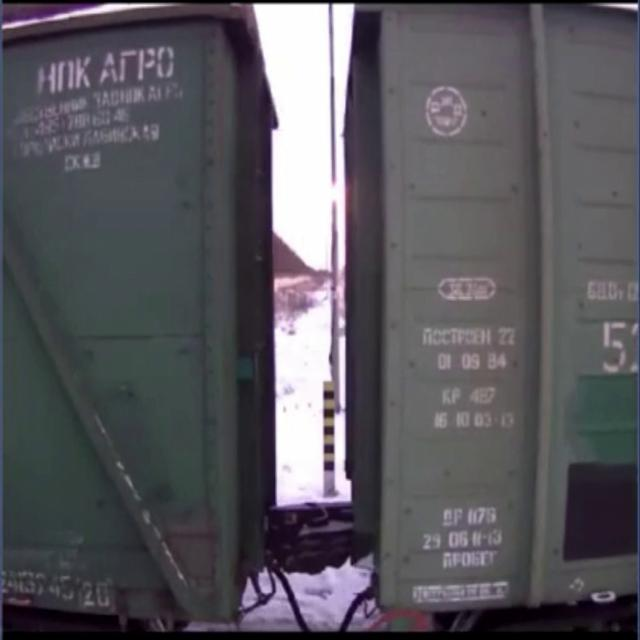boxcar: (326, 0, 640, 640)
gondola: (0, 0, 298, 640)
